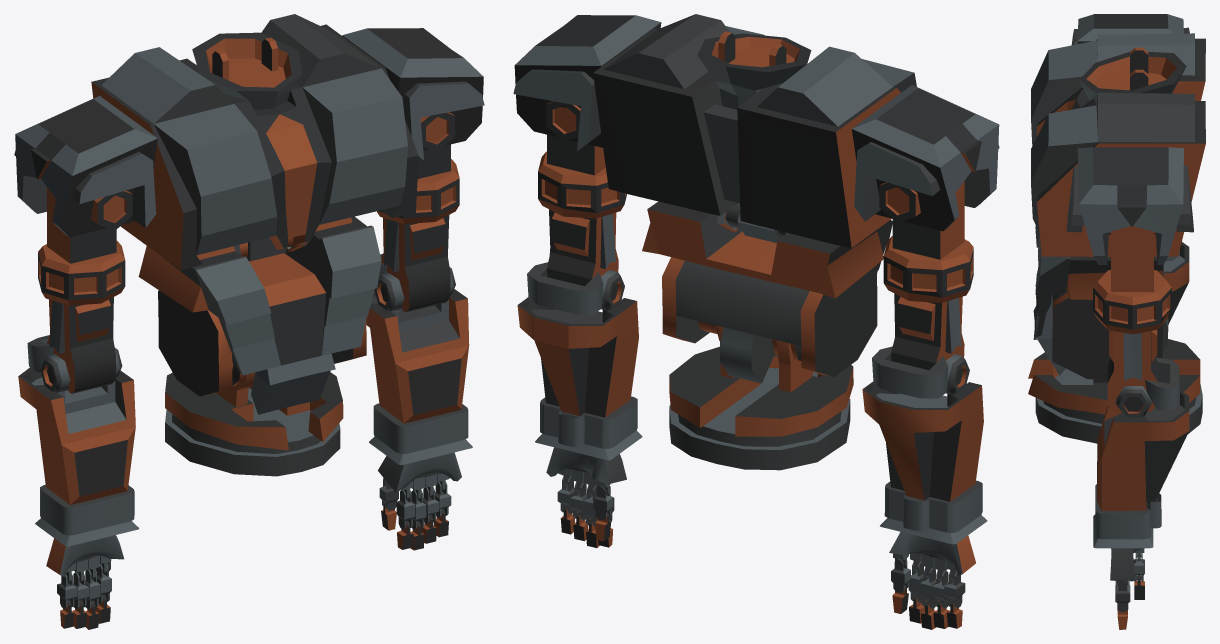
File: Torso.fbx
3 renders of one model, left to right at view 1: azimuth 30°, elevation 25°; view 2: azimuth 150°, elevation 25°; view 3: azimuth 270°, elevation 25°, orthographic. The views are drawn at different scales.
Visible parts, largest first — view 1: Torso; view 2: Torso; view 3: Torso.
Boxes of the visible parts, x1,y1,x2,y2 form: Torso: (14,14,484,629); Torso: (513,14,999,629); Torso: (1028,14,1205,629).
Bounding box in the file's own units: 416 × 502 × 165.
